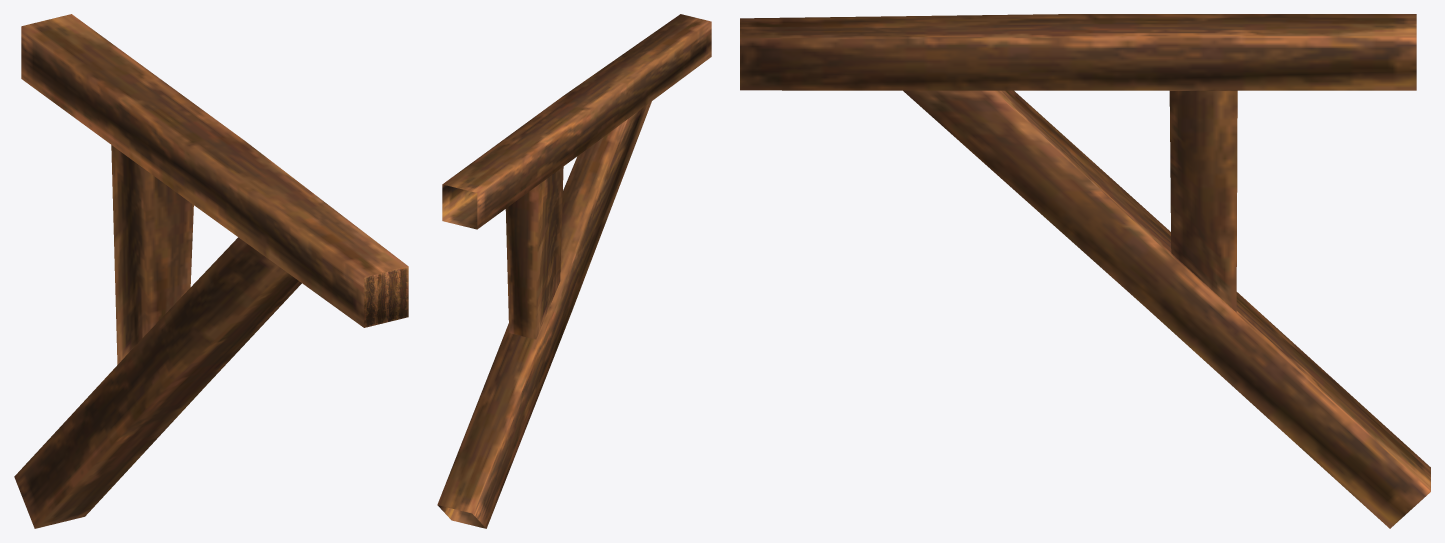
Rendered from INST_SWORDLIGHT_TRACKBRACKB.fbx.
3 views of the same model, side by side, from view 1: azimuth 30°, elevation 25°; view 2: azimuth 150°, elevation 25°; view 3: azimuth 270°, elevation 25° (orthographic). The views are drawn at different scales.
Visible parts, largest first — view 1: INST_SWORDLIGHT_TRACKBRACKB; view 2: INST_SWORDLIGHT_TRACKBRACKB; view 3: INST_SWORDLIGHT_TRACKBRACKB.
Boxes of the visible parts, left/top/right/bottom form: INST_SWORDLIGHT_TRACKBRACKB: left=14, top=14, right=408, bottom=528; INST_SWORDLIGHT_TRACKBRACKB: left=437, top=14, right=711, bottom=528; INST_SWORDLIGHT_TRACKBRACKB: left=740, top=14, right=1430, bottom=528.
Bounding box in the file's own units: 4579 × 42865 × 54710.
1 material, 1 textured.
